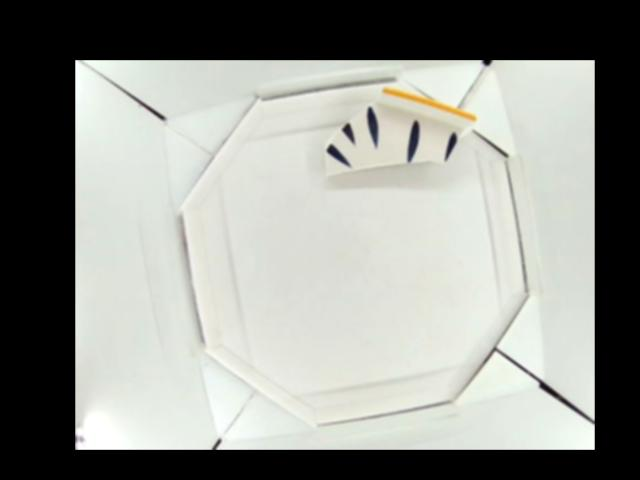China: (325, 85, 476, 178)
